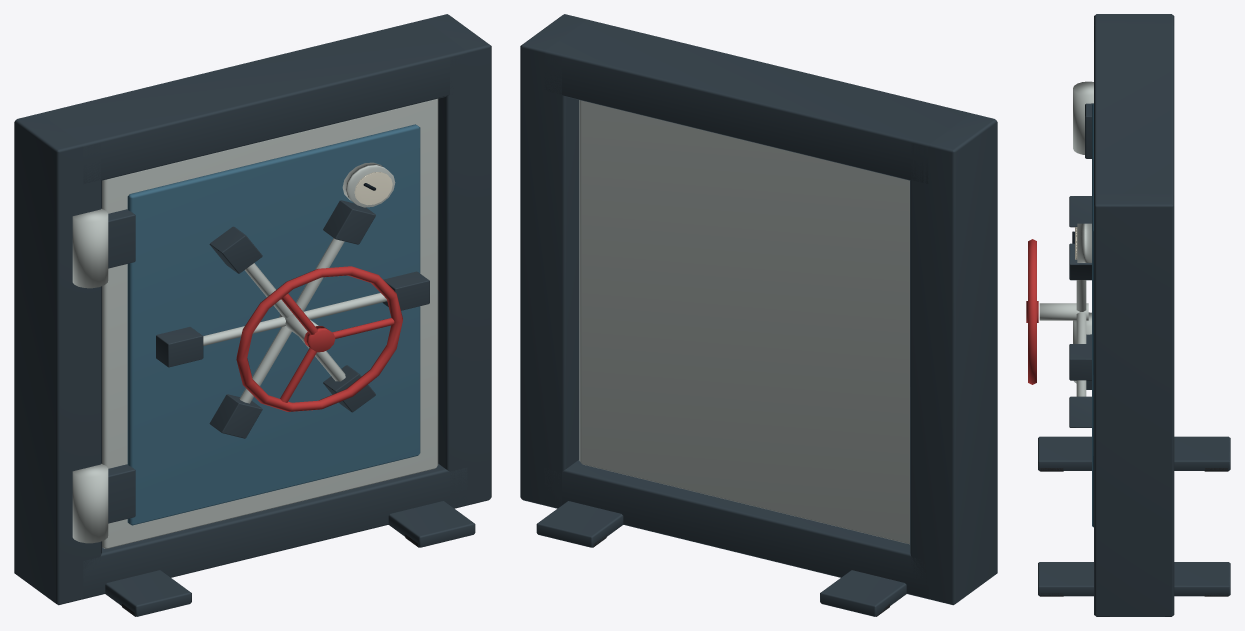
File: S087_vault_door_rebuilt.glb
3 renders of one model, left to right at view 1: azimuth 30°, elevation 25°; view 2: azimuth 150°, elevation 25°; view 3: azimuth 270°, elevation 25°, orthographic. The views are drawn at different scales.
Parts seen in each view (by area): view 1: shell, blue, silver, red, white; view 2: silver, shell; view 3: shell, silver, red, blue, rubber.
Part boxes in pixels (x1=…): shell: x1=14, y1=14, x2=491, y2=616; blue: x1=127, y1=124, x2=420, y2=525; silver: x1=72, y1=98, x2=438, y2=548; red: x1=236, y1=266, x2=402, y2=411; white: x1=354, y1=172, x2=392, y2=205; silver: x1=579, y1=100, x2=909, y2=544; shell: x1=520, y1=14, x2=997, y2=616; shell: x1=1038, y1=14, x2=1230, y2=616; silver: x1=1039, y1=81, x2=1093, y2=396; red: x1=1026, y1=239, x2=1038, y2=384; blue: x1=1092, y1=103, x2=1093, y2=527; rubber: x1=1040, y1=468, x2=1228, y2=596.
Size of the model in its own units: 2.6 by 2.6 by 1.16.
